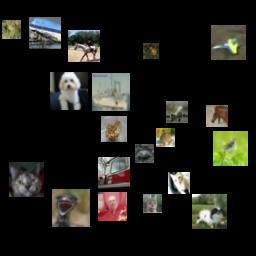airplane: (211, 25, 246, 60), (29, 17, 61, 49), (166, 101, 188, 123)
bird: (52, 189, 90, 227), (213, 131, 248, 166)
cat: (9, 162, 44, 197), (168, 172, 190, 194), (143, 194, 162, 213)
dog: (50, 72, 88, 110), (192, 194, 227, 229), (98, 192, 127, 221)
frog: (101, 116, 127, 142), (135, 144, 154, 163), (2, 20, 21, 39), (156, 128, 175, 147), (143, 43, 159, 59)
ship: (92, 73, 130, 111)
truck: (98, 157, 130, 189)
